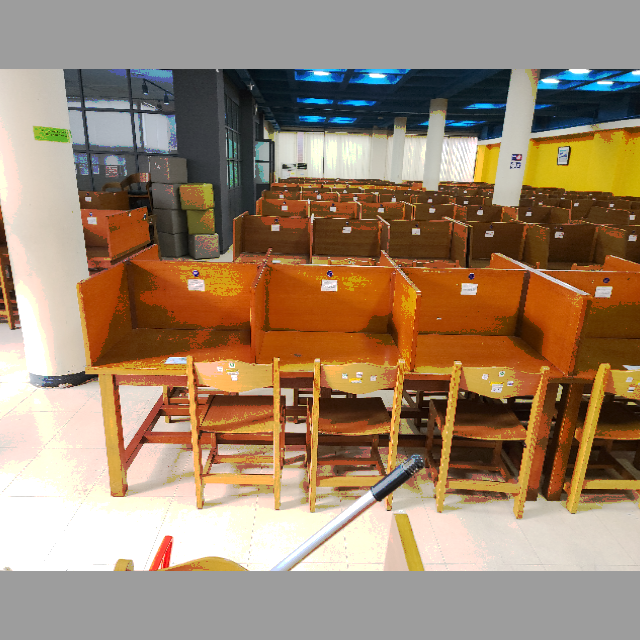empty: (416, 261, 582, 454), (84, 256, 253, 423), (257, 272, 408, 435)
